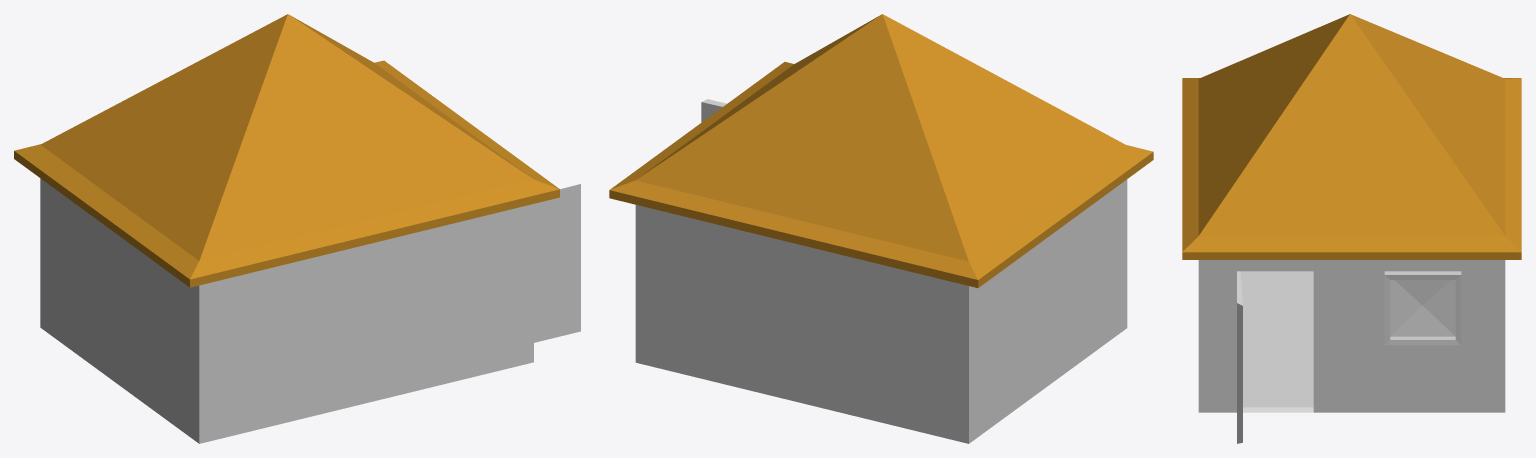
File: witchhousefinal.fbx
The picture shows the model from 3 angles, left to right: view 1: azimuth 30°, elevation 25°; view 2: azimuth 150°, elevation 25°; view 3: azimuth 270°, elevation 25°; orthographic projection. The views are drawn at different scales.
Parts seen in each view (by area): view 1: Cube, Cube.002; view 2: Cube.002, Cube; view 3: Cube.002, Cube, Cube.001.
Boxes of the visible parts, bbox=[...] form: Cube: bbox=[40, 178, 580, 443]; Cube.002: bbox=[14, 14, 559, 287]; Cube.002: bbox=[609, 14, 1153, 287]; Cube: bbox=[635, 99, 1127, 443]; Cube.002: bbox=[1182, 14, 1521, 259]; Cube: bbox=[1198, 260, 1505, 443]; Cube.001: bbox=[1390, 280, 1455, 336].
Size of the model in its own units: 2048 by 1537 by 1478.
